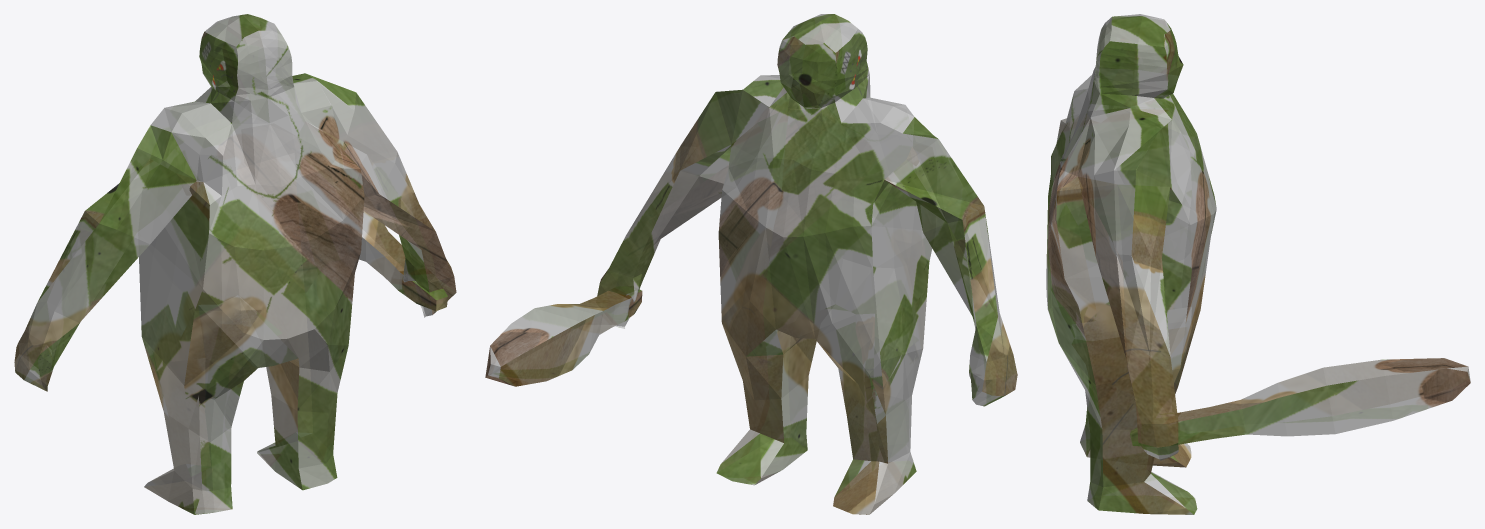
The model's file is Enemigo228.obj.
The picture shows the model from 3 angles, left to right: view 1: azimuth 30°, elevation 25°; view 2: azimuth 150°, elevation 25°; view 3: azimuth 270°, elevation 25°; orthographic projection. The views are drawn at different scales.
Parts seen in each view (by area): view 1: Cube; view 2: Cube; view 3: Cube.
Boxes of the visible parts, <box> form: Cube: <box>14,14,456,514</box>; Cube: <box>485,14,1017,514</box>; Cube: <box>1046,14,1470,514</box>.
Bounding box in the file's own units: 2.56 × 2.73 × 2.24.
